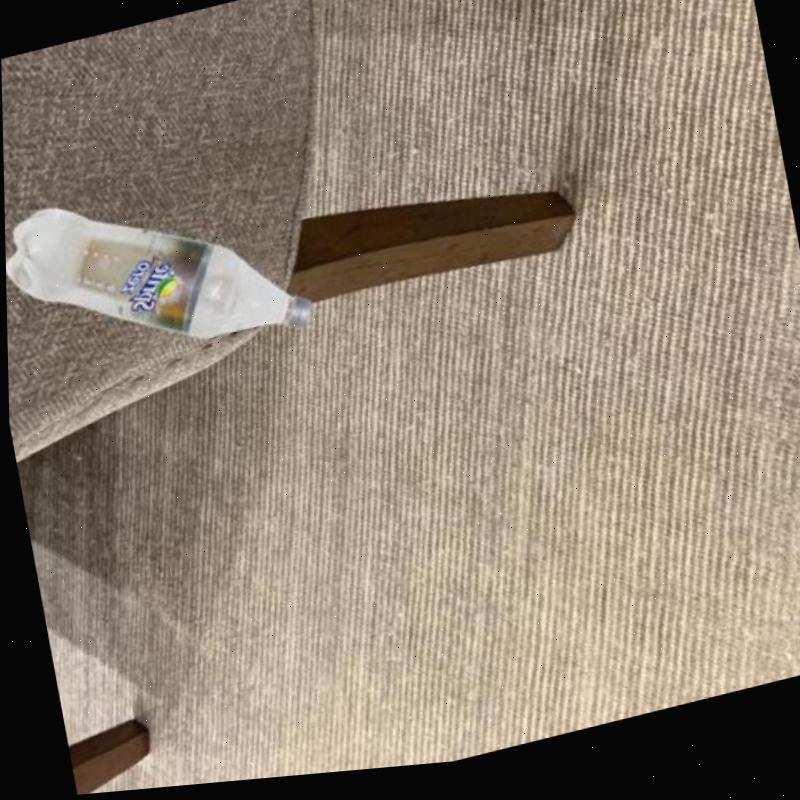botella: (3, 143, 319, 397)
